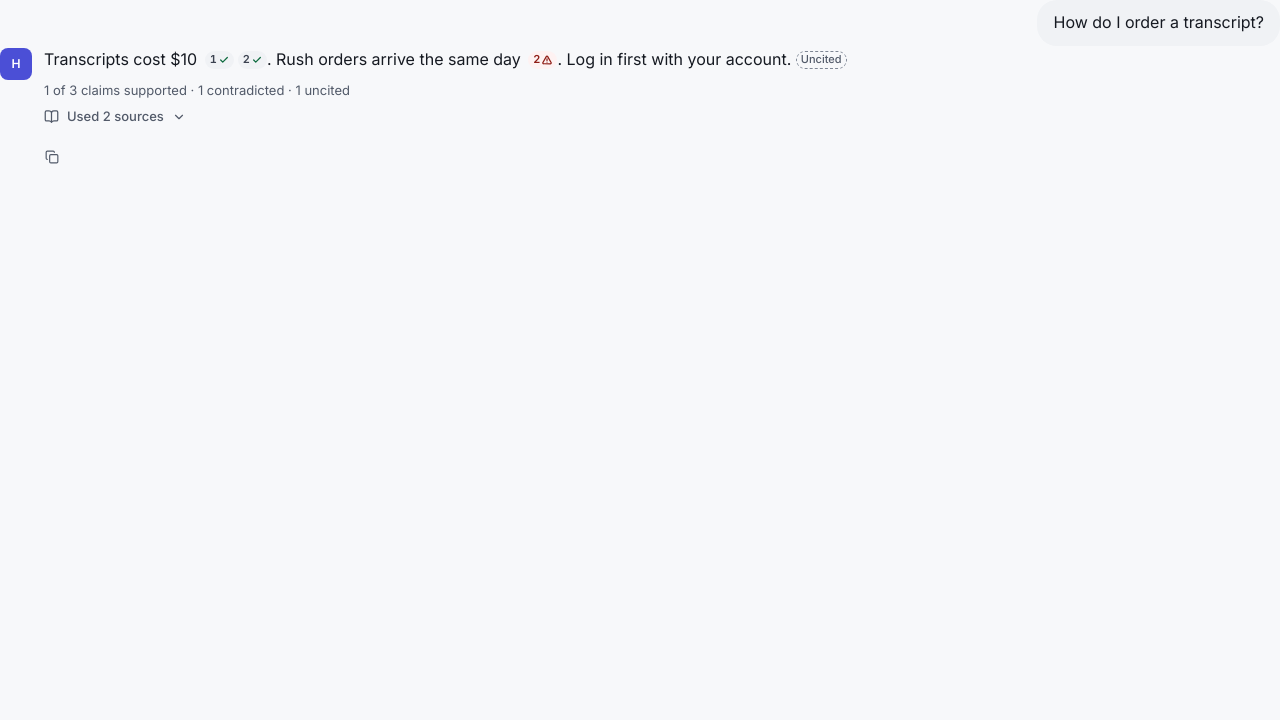
claims › shows the claim, its verdict and the passage in the chip's card
Hover over the button named "Source 2: Page 2" at [543, 60], box [525,48,560,72]
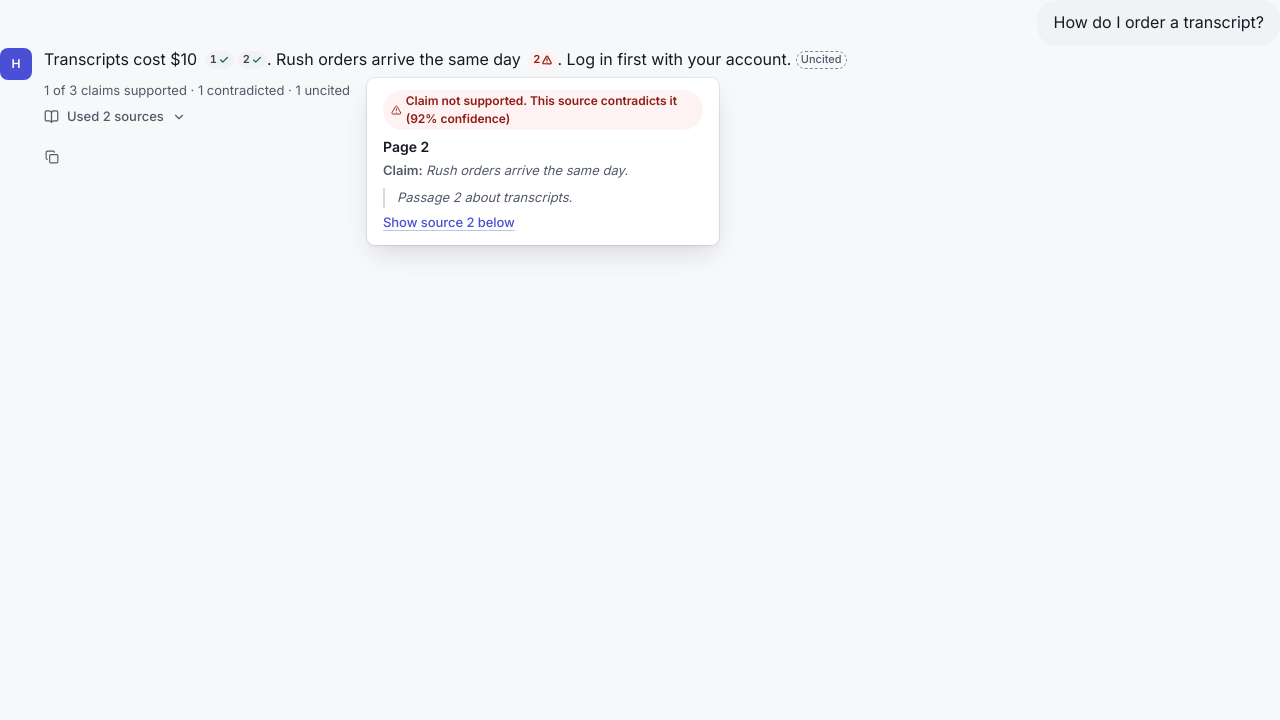
expect the text "Claim not supported. This source contradicts it (92% confidence)" is shown: met, box [383,90,703,130]
expect the text "Rush orders arrive the same day." is shown: met, box [426,162,628,178]
expect the text "Claim:" is shown: met, box [383,162,426,178]
